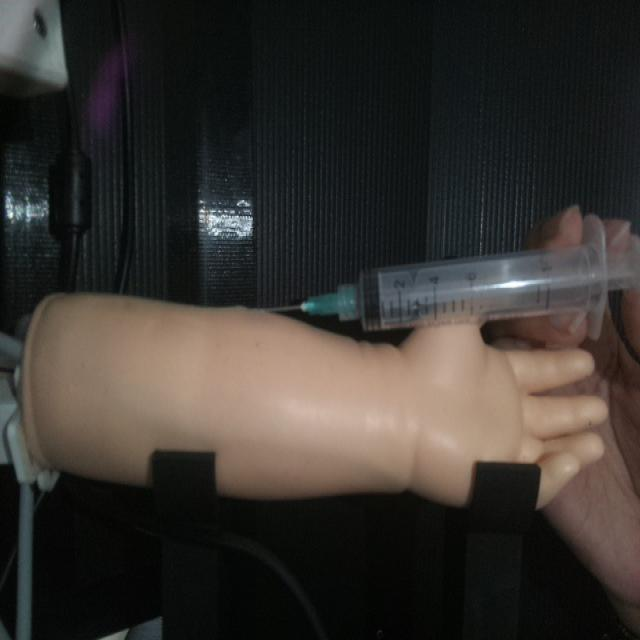Outside: (252, 210, 640, 318)
